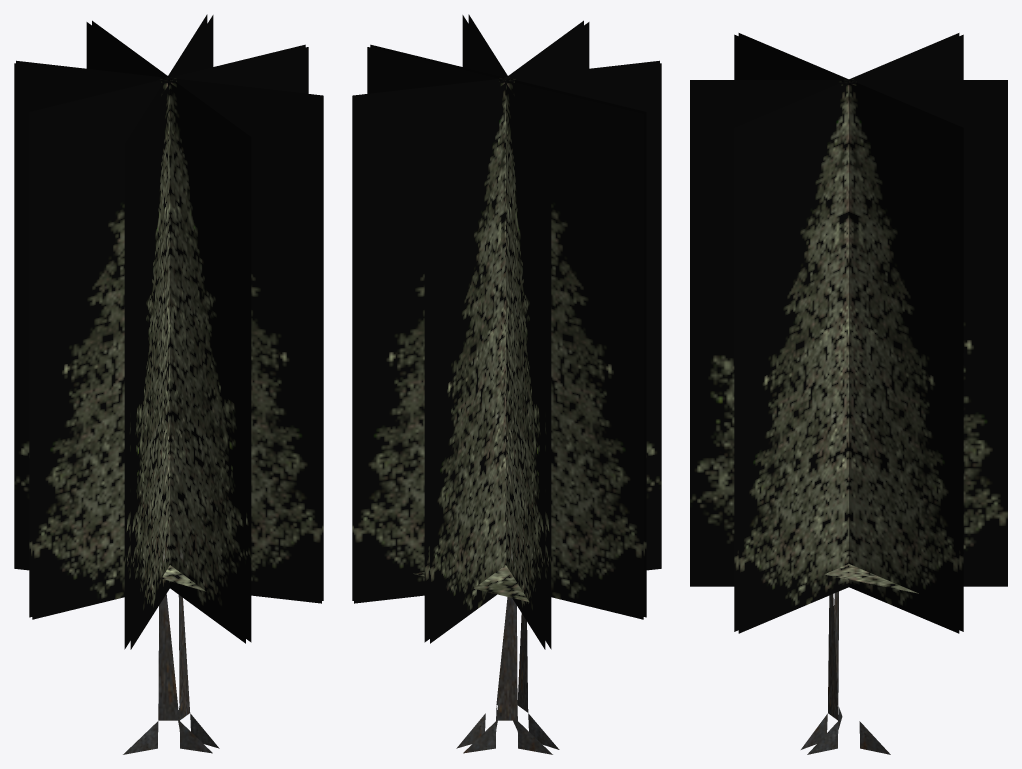
Rendered from tree_lod5.glb.
3 views of the same model, side by side, from view 1: azimuth 30°, elevation 25°; view 2: azimuth 150°, elevation 25°; view 3: azimuth 270°, elevation 25° (orthographic).
Parts seen in each view (by area): view 1: tree08_top, tree08; view 2: tree08_top, tree08; view 3: tree08_top, tree08.
Part boxes in pixels (left/top/right/bottom): tree08_top: left=14, top=14, right=323, bottom=649; tree08: left=123, top=594, right=219, bottom=754; tree08_top: left=352, top=14, right=661, bottom=649; tree08: left=456, top=597, right=559, bottom=754; tree08_top: left=690, top=33, right=1007, bottom=633; tree08: left=801, top=591, right=890, bottom=754.
Size of the model in its own units: 2.1 by 4.81 by 2.1.
Materials: 1 (1 with a texture image).
